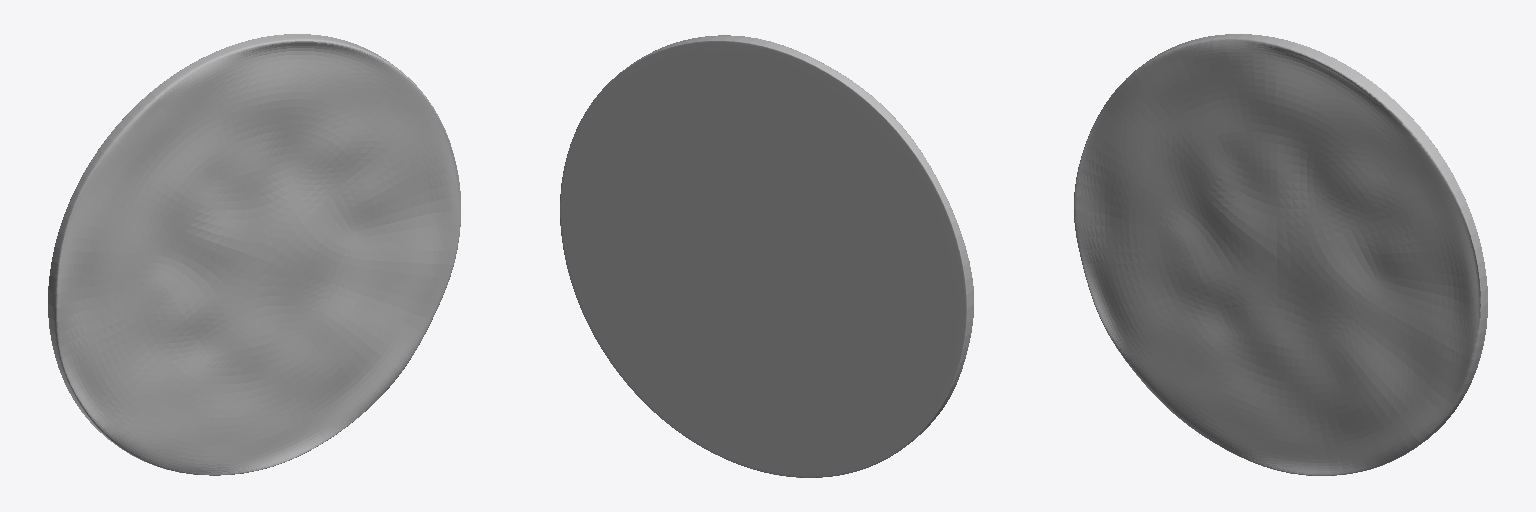
The model's file is grass.obj.
The picture shows the model from 3 angles: view 1: azimuth 30°, elevation 25°; view 2: azimuth 150°, elevation 25°; view 3: azimuth 330°, elevation 25°; orthographic projection.
Parts seen in each view (by area): view 1: grass; view 2: grass; view 3: grass.
Part boxes in pixels (bbox=[...]): grass: bbox=[48, 34, 460, 475]; grass: bbox=[560, 35, 973, 477]; grass: bbox=[1074, 34, 1487, 475].
Size of the model in its own units: 14.34 by 14.34 by 0.5768.